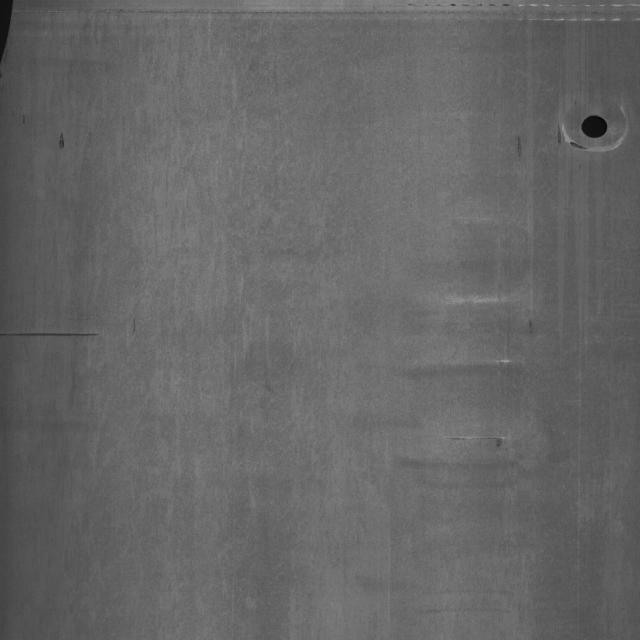crescent_gap: (577, 108, 613, 143)
rolled_pit: (1, 316, 112, 352)
silk_spot: (1, 0, 20, 72)
